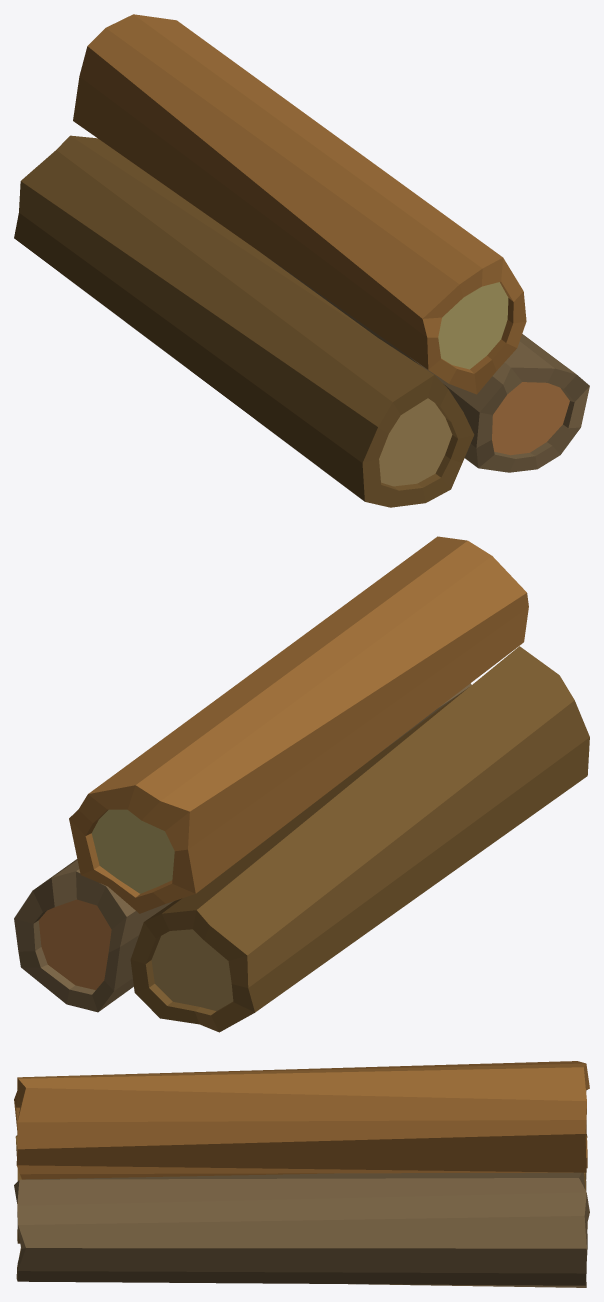
Rendered from Wood.fbx.
3 views of the same model, one above another, from view 1: azimuth 30°, elevation 25°; view 2: azimuth 150°, elevation 25°; view 3: azimuth 270°, elevation 25° (orthographic). The views are drawn at different scales.
Parts seen in each view (by area): view 1: Cylinder.002, Cylinder, Cylinder.001; view 2: Cylinder.002, Cylinder, Cylinder.001; view 3: Cylinder.001, Cylinder.002.
Boxes of the visible parts, x1=… form: Cylinder.002: x1=73, y1=14, x2=526, y2=394; Cylinder: x1=14, y1=135, x2=474, y2=507; Cylinder.001: x1=263, y1=254, x2=589, y2=472; Cylinder.002: x1=69, y1=536, x2=528, y2=913; Cylinder: x1=130, y1=646, x2=589, y2=1032; Cylinder.001: x1=14, y1=683, x2=471, y2=1012; Cylinder.001: x1=14, y1=1172, x2=589, y2=1287; Cylinder.002: x1=14, y1=1061, x2=589, y2=1179.
Bounding box in the file's own units: 33.99 × 31.3 × 84.21.
